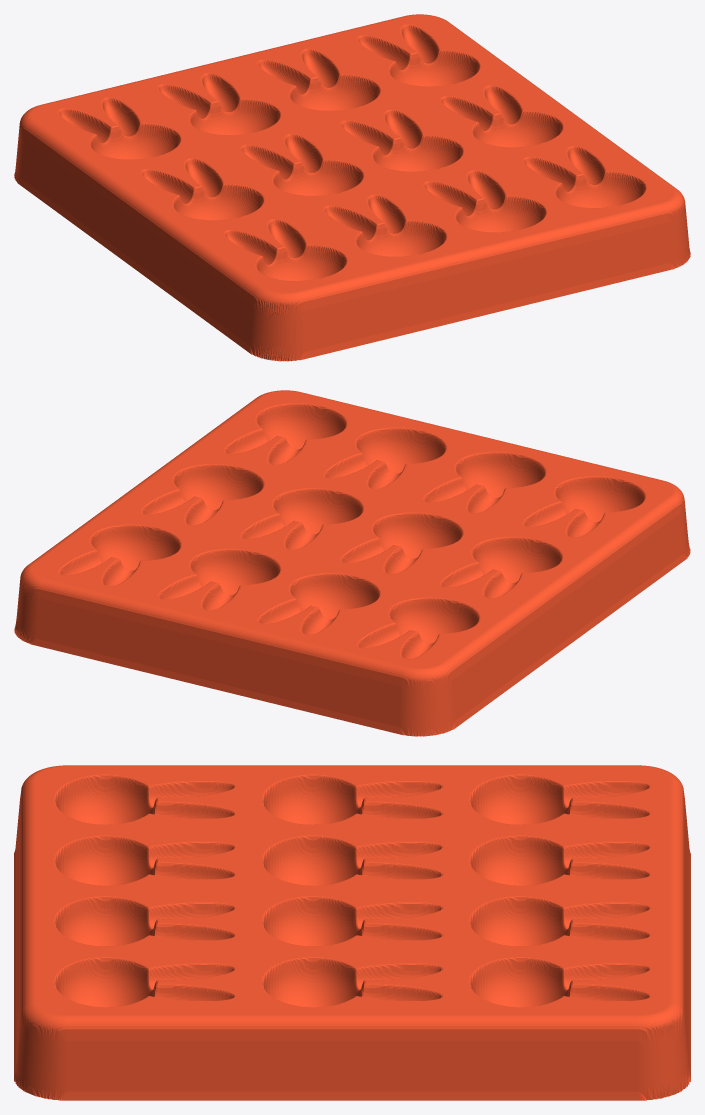
Rendered from mold.glb.
3 views of the same model, one above another, from view 1: azimuth 30°, elevation 25°; view 2: azimuth 150°, elevation 25°; view 3: azimuth 270°, elevation 25° (orthographic). The views are drawn at different scales.
Visible parts, largest first — view 1: geometry_0; view 2: geometry_0; view 3: geometry_0.
Part boxes in pixels (bbox=[...]): geometry_0: bbox=[14, 14, 690, 361]; geometry_0: bbox=[14, 390, 690, 736]; geometry_0: bbox=[14, 765, 690, 1100].
Size of the model in its own units: 0.108 by 0.0145 by 0.1161.
